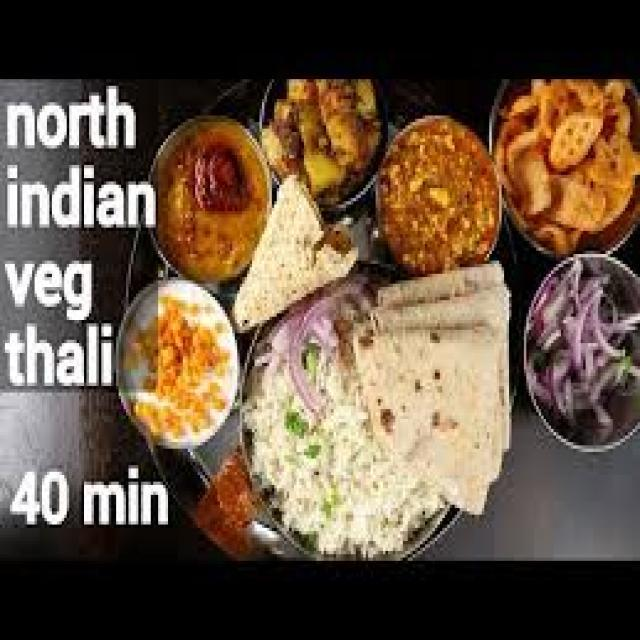curd: (112, 279, 241, 446)
dal: (149, 115, 268, 287)
papad: (340, 255, 507, 480), (241, 180, 324, 325)
raita: (112, 276, 242, 447)
rice: (376, 112, 503, 272)
veg-fry: (144, 116, 272, 286)
